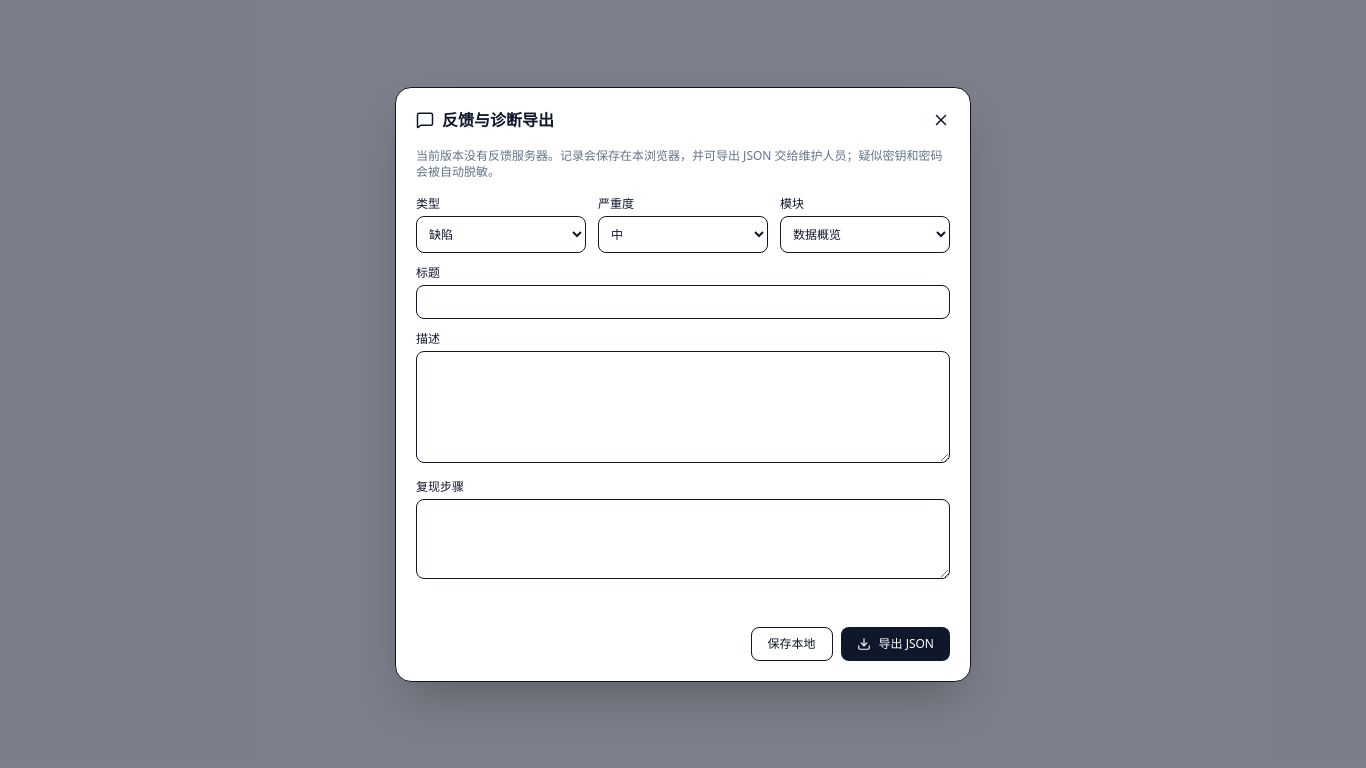
Test case: feedback diagnostics › rejects incomplete feedback
Step 1. Click the button "保存本地" → coordinates (792, 644), box [750,626,832,660]
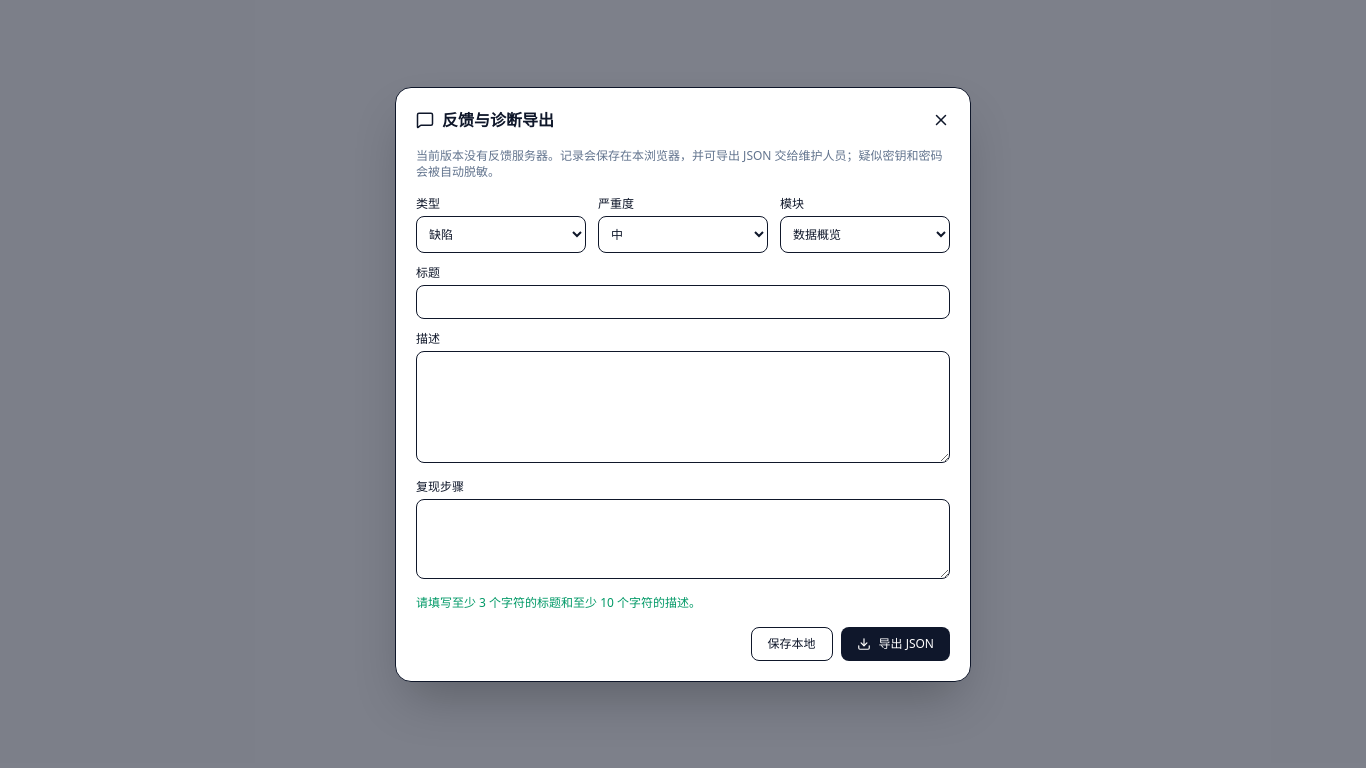
Check: the text "请填写至少 3 个字符的标题和至少 10 个字符的描述。" is shown, box [416,594,701,610]
